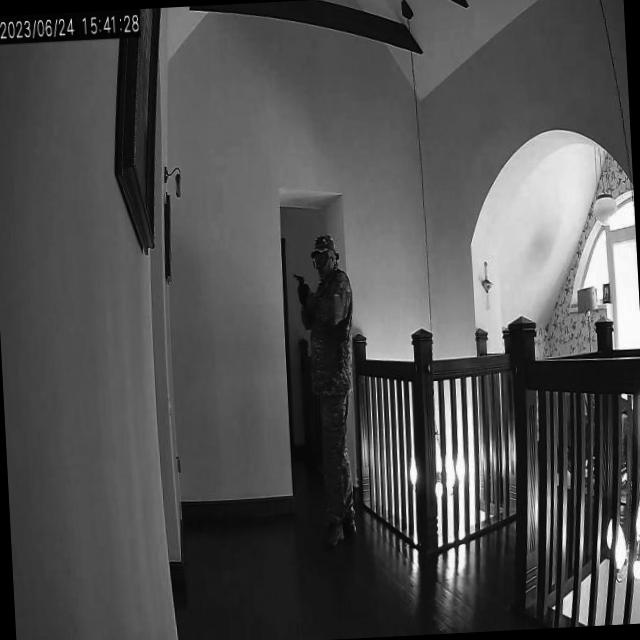gun: (292, 270, 308, 289)
person with a gun: (288, 231, 364, 549)
